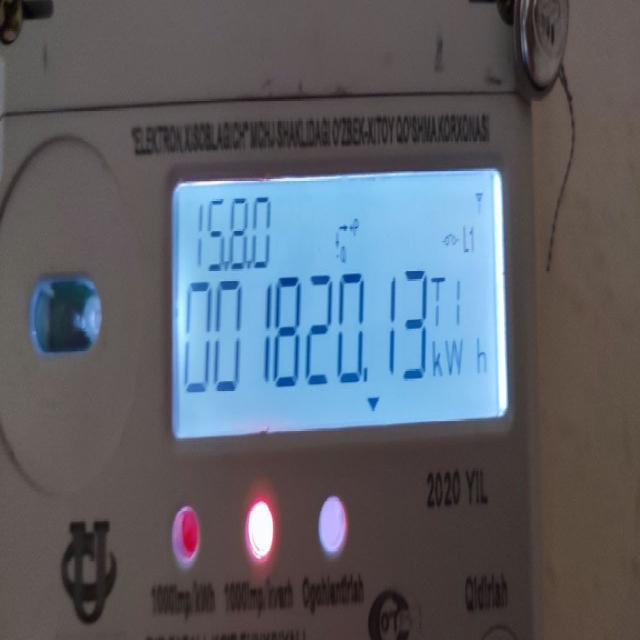.: (362, 364, 371, 386), (224, 255, 231, 272)
0: (183, 280, 212, 396), (215, 279, 242, 392), (338, 272, 363, 383), (252, 194, 272, 272)
1: (385, 270, 401, 383), (260, 281, 274, 385), (194, 200, 206, 272)
2: (304, 272, 334, 390)
3: (403, 265, 428, 389)
5: (208, 195, 225, 272)
8: (273, 276, 301, 394), (230, 196, 248, 274)
screen: (171, 172, 507, 433)
